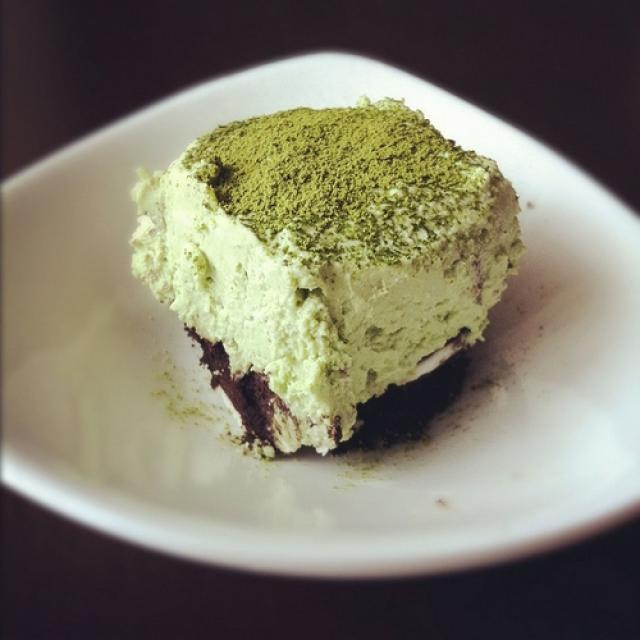Rare cheese cake: (86, 80, 552, 468)
